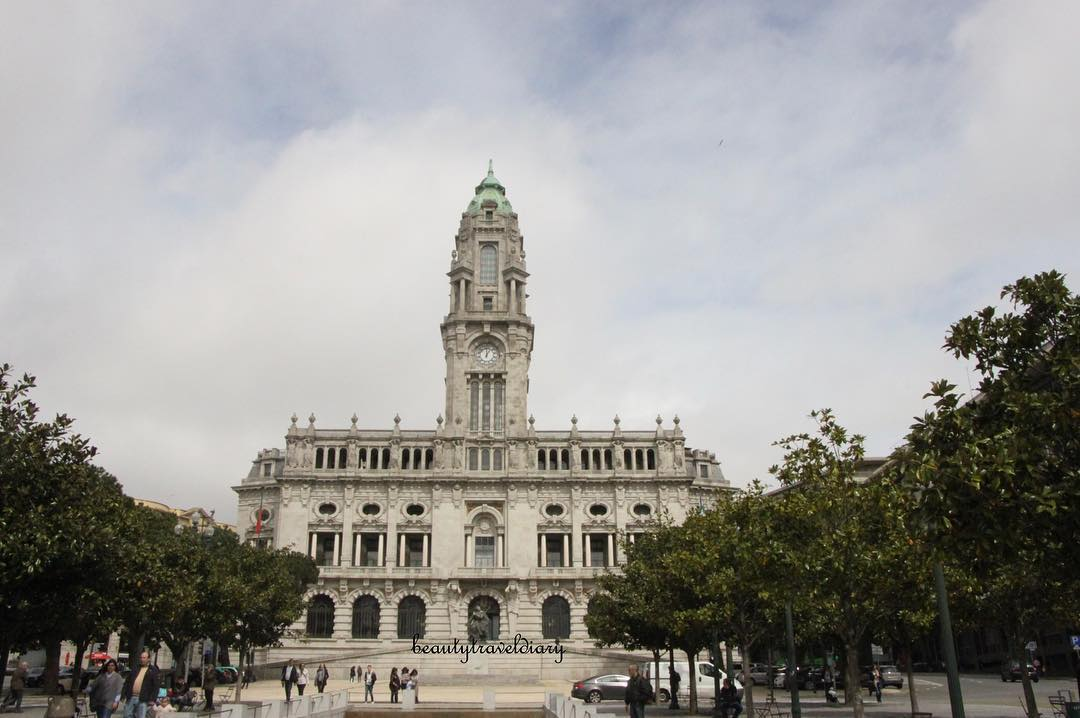camara: (231, 157, 747, 665)
